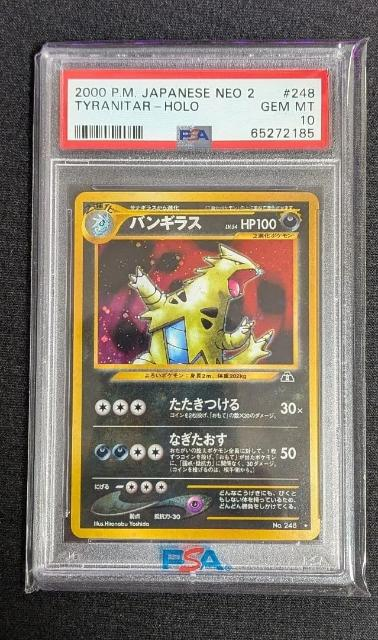Card: (67, 188, 326, 545)
Name: (126, 212, 210, 234)
